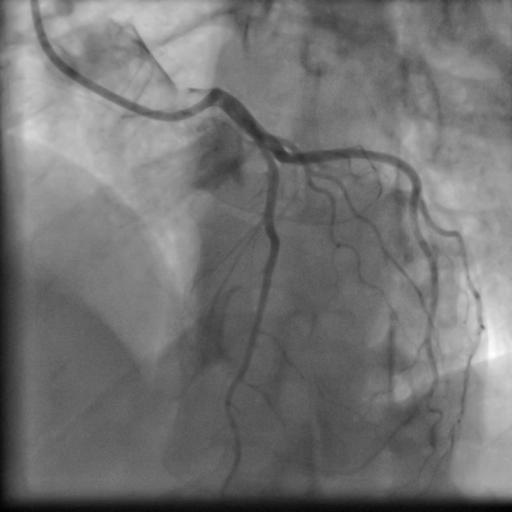Stenosis: (256, 146, 281, 193)
